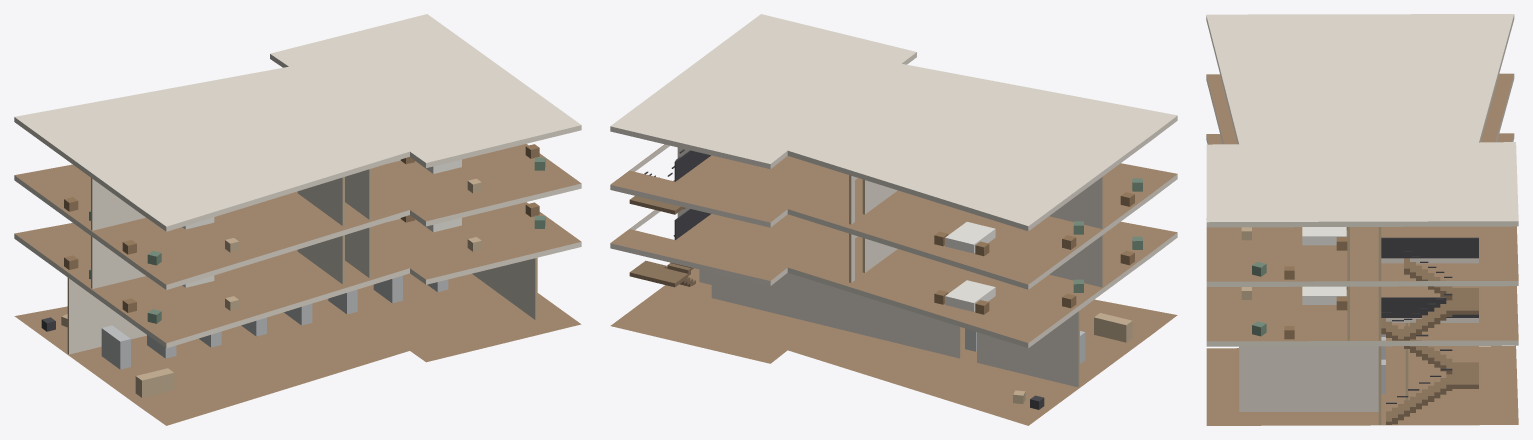
The model's file is interior.glb.
The picture shows the model from 3 angles, left to right: view 1: azimuth 30°, elevation 25°; view 2: azimuth 150°, elevation 25°; view 3: azimuth 270°, elevation 25°; orthographic projection. The views are drawn at different scales.
Visible parts, largest first — view 1: slabs, partitions, coarse-s0, coarse-s2, coarse-s1; view 2: slabs, partitions, stair, coarse-s2, coarse-s1, coarse-s0; view 3: slabs, partitions, stair, coarse-s1, coarse-s2.
Boxes of the visible parts, x1,y1,x2,y2 form: slabs: (14,14,581,425); partitions: (67,159,537,354); coarse-s0: (41,275,448,397); coarse-s2: (64,144,545,265); coarse-s1: (64,202,545,323); slabs: (610,14,1177,425); partitions: (677,147,1103,387); stair: (629,149,710,287); coarse-s2: (934,178,1142,256); coarse-s1: (934,236,1142,314); coarse-s0: (965,313,1132,409); slabs: (1206,14,1518,425); partitions: (1239,227,1408,424); stair: (1381,237,1478,424); coarse-s1: (1241,286,1347,339); coarse-s2: (1241,227,1347,279).
Bounding box in the file's own units: 22.08 × 10.1 × 14.01.
